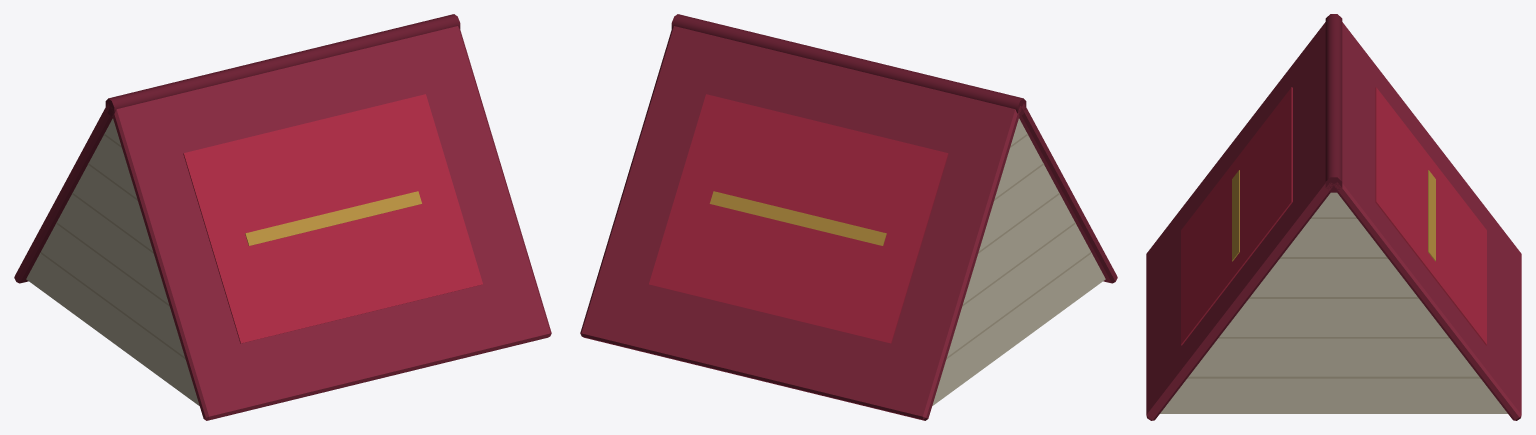
File: library-deco2.glb
3 renders of one model, left to right at view 1: azimuth 30°, elevation 25°; view 2: azimuth 150°, elevation 25°; view 3: azimuth 270°, elevation 25°, orthographic. The views are drawn at different scales.
Parts seen in each view (by area): view 1: library-deco2; view 2: library-deco2; view 3: library-deco2.
Part boxes in pixels (box(x1,y1,x2,y2)): library-deco2: box(14, 14, 551, 420); library-deco2: box(580, 14, 1117, 420); library-deco2: box(1146, 14, 1521, 420).
Bounding box in the file's own units: 3 × 2.09 × 2.91.
